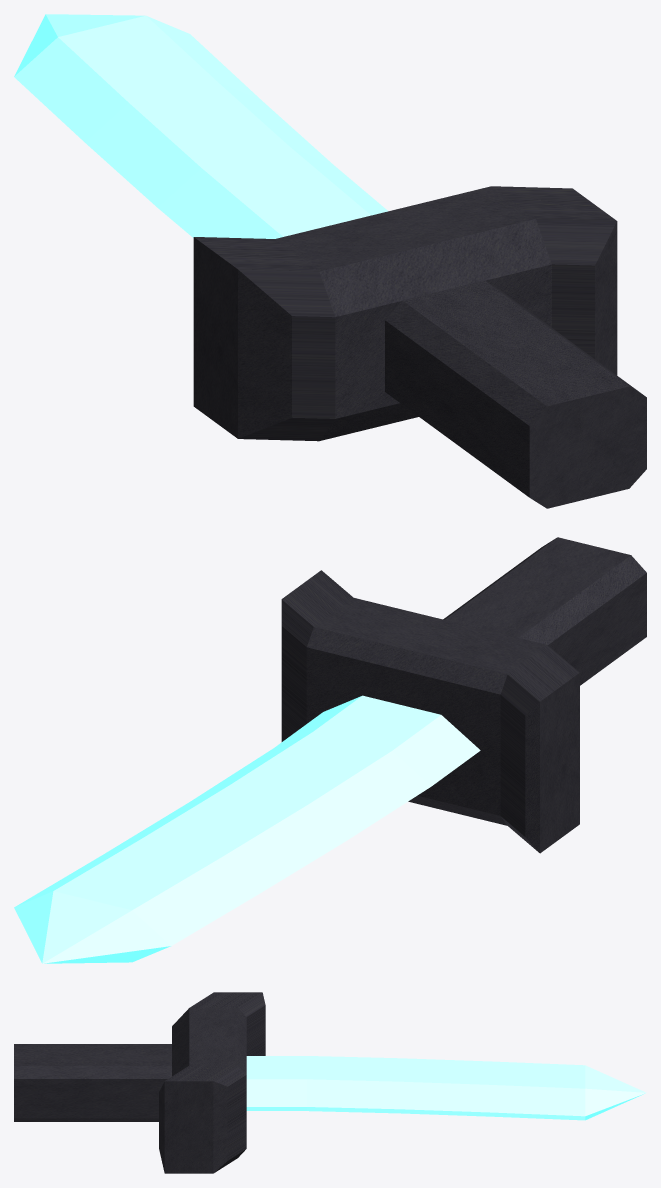
Rendered from knife.glb.
The picture shows the model from 3 angles, top to bottom: view 1: azimuth 30°, elevation 25°; view 2: azimuth 150°, elevation 25°; view 3: azimuth 270°, elevation 25°; orthographic projection. The views are drawn at different scales.
Visible parts, largest first — view 1: Cube.001, Cylinder, Cube; view 2: Cylinder, Cube.001, Cube; view 3: Cylinder, Cube.001, Cube.
Part boxes in pixels (box(x1,y1,x2,y2)): Cube.001: box(193, 186, 617, 441); Cylinder: box(14, 14, 387, 238); Cube: box(385, 280, 646, 508); Cylinder: box(14, 695, 480, 963); Cube.001: box(281, 570, 579, 853); Cube: box(443, 537, 646, 685); Cylinder: box(246, 1056, 646, 1120); Cube.001: box(159, 992, 265, 1173); Cube: box(14, 1044, 171, 1121).
Bounding box in the file's own units: 0.1707 × 0.0828 × 0.5132.
2 materials, 1 textured.
